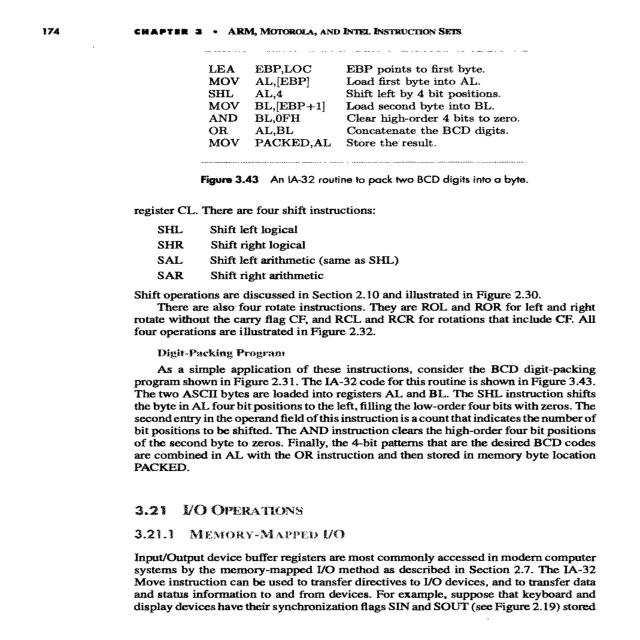diagram: (125, 38, 590, 198)
